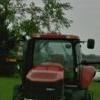Tractor: (18, 24, 100, 100)
